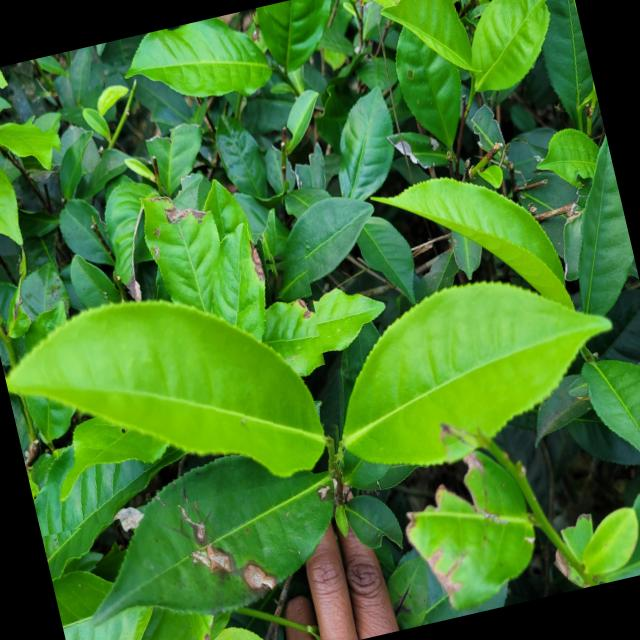Catagory A(1-2 days): (0, 244, 352, 535)
